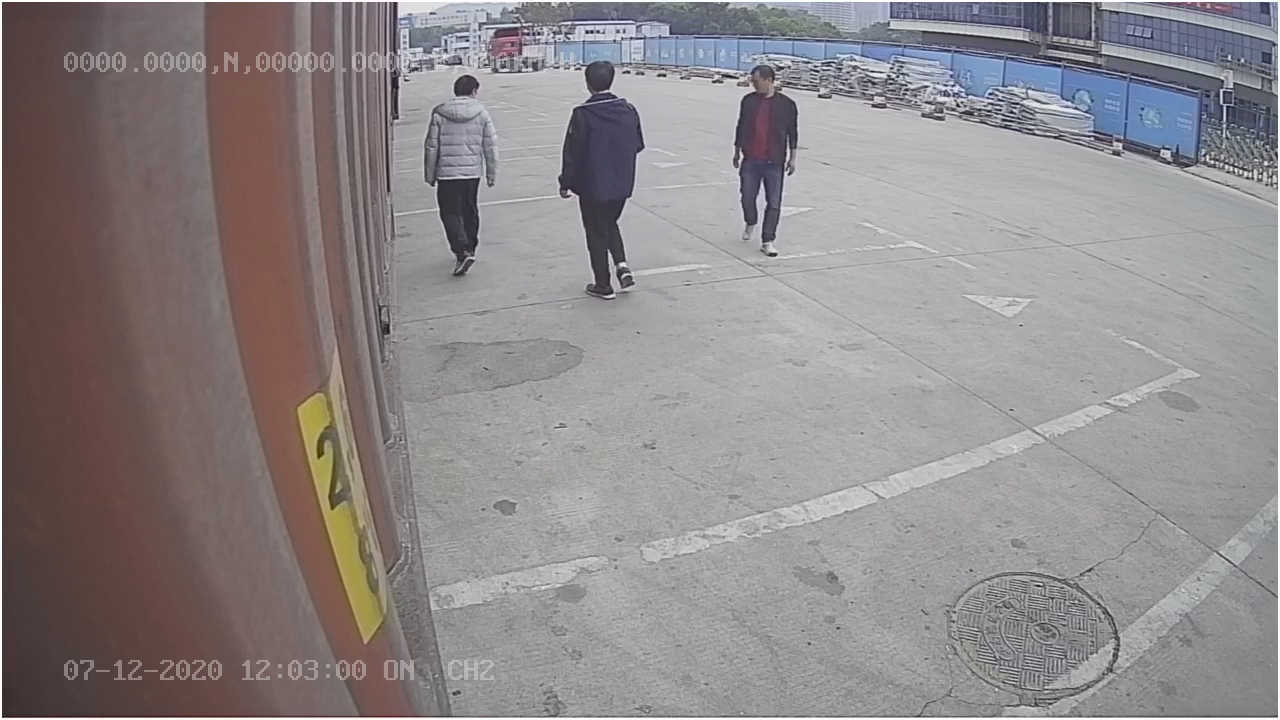person: (560, 56, 649, 302)
